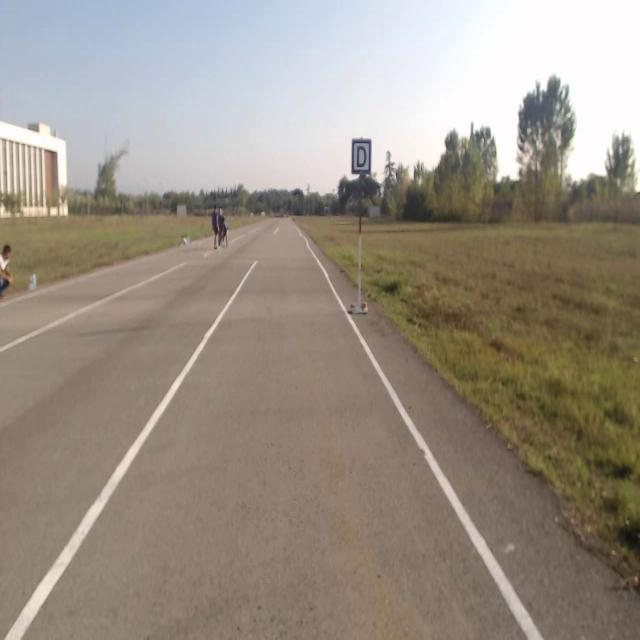durak: (352, 138, 371, 173)
